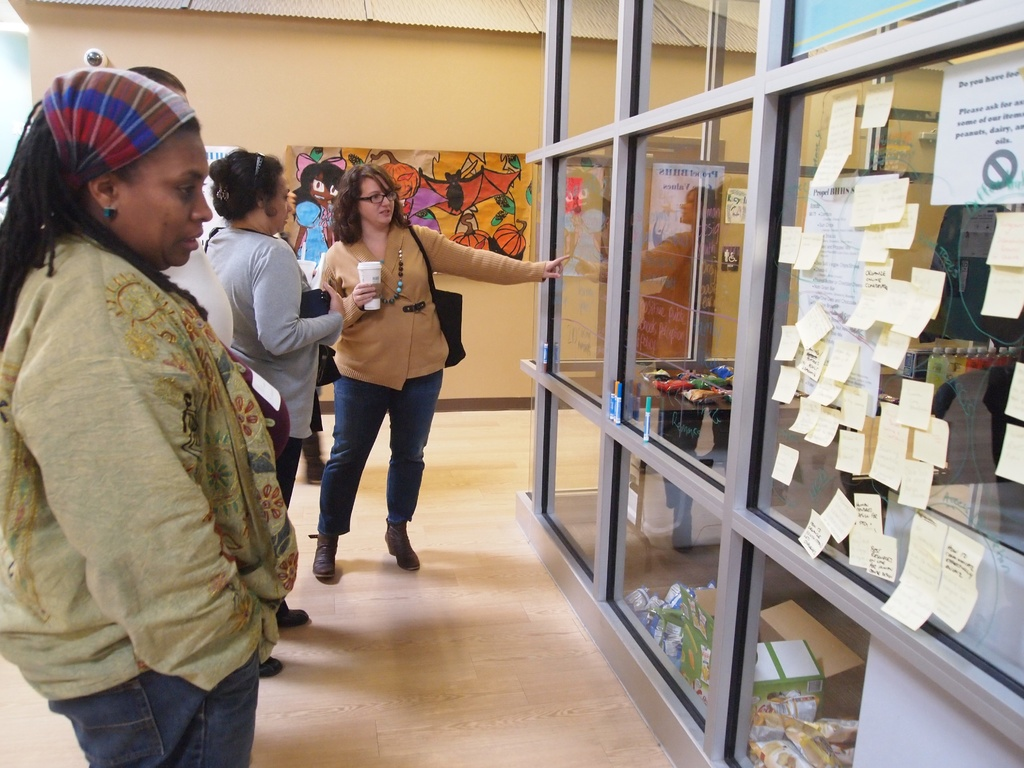Footwear: (305, 532, 343, 585), (383, 520, 419, 572), (294, 424, 323, 486), (277, 597, 307, 625), (253, 659, 282, 680)
